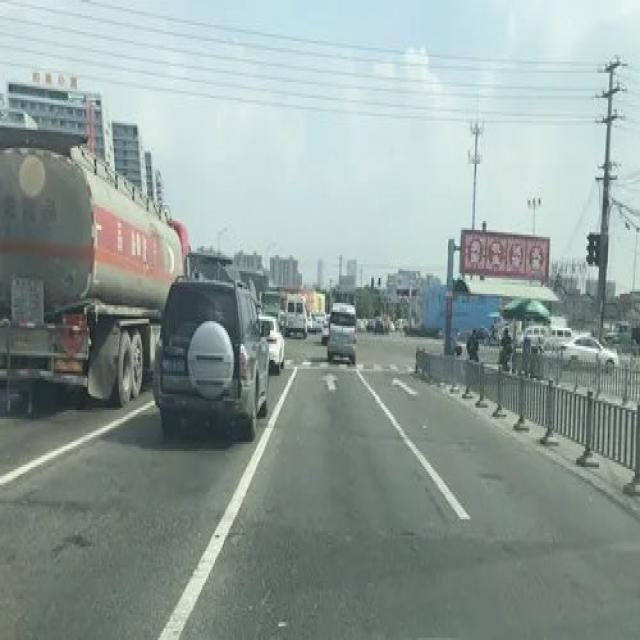Pothole: (49, 526, 105, 572)
